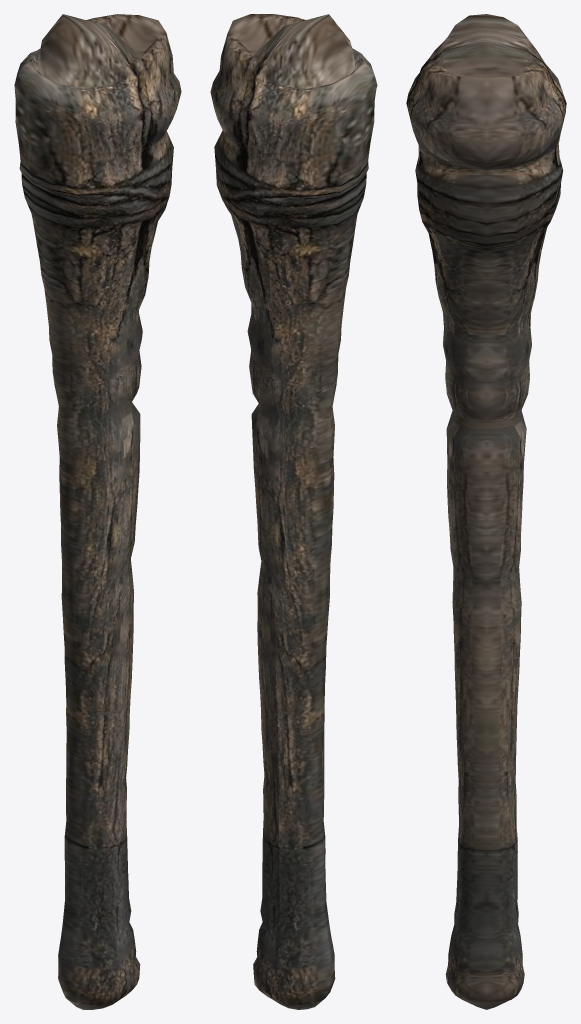
Rendered from club_oak_p1_w2.glb.
3 renders of one model, left to right at view 1: azimuth 30°, elevation 25°; view 2: azimuth 150°, elevation 25°; view 3: azimuth 270°, elevation 25°, orthographic.
Parts seen in each view (by area): view 1: club_oak_p1_w2; view 2: club_oak_p1_w2; view 3: club_oak_p1_w2.
Boxes of the visible parts, x1,y1,x2,y2 form: club_oak_p1_w2: (14, 14, 181, 1009); club_oak_p1_w2: (210, 14, 377, 1009); club_oak_p1_w2: (406, 14, 566, 1009).
Size of the model in its own units: 0.1292 by 0.8337 by 0.1235.
1 material, 1 textured.
